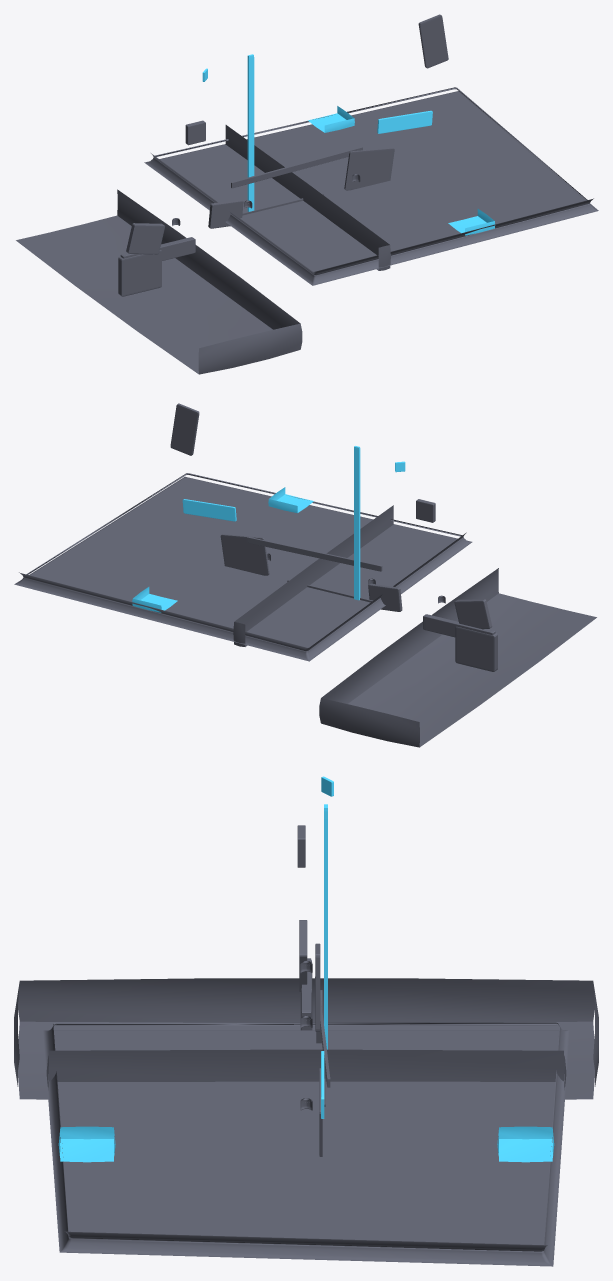
The model's file is fin_stabilator.glb.
The picture shows the model from 3 angles, top to bottom: view 1: azimuth 30°, elevation 25°; view 2: azimuth 150°, elevation 25°; view 3: azimuth 270°, elevation 25°; orthographic projection. The views are drawn at different scales.
Parts seen in each view (by area): view 1: fin_stabilator_Material_Hull_Merged, fin_stabilator_Material_Mechanical_Merged, DET_mount_flange, DET_micro_scratch_plate, fin_stabilator_Material_Accent_Merged, DET_control_tab, DET_faction_stripe_port, DET_dock_scuff, DET_panel_line_emphasis, DET_edge_chamfer_band, DET_actuator_slot, DET_hinge_bar; view 2: fin_stabilator_Material_Hull_Merged, fin_stabilator_Material_Mechanical_Merged, DET_mount_flange, DET_micro_scratch_plate, fin_stabilator_Material_Accent_Merged, DET_control_tab, DET_faction_stripe_port, DET_dock_scuff, DET_panel_line_emphasis, DET_edge_chamfer_band, DET_hinge_bar, DET_actuator_slot; view 3: fin_stabilator_Material_Hull_Merged, fin_stabilator_Material_Mechanical_Merged, fin_stabilator_Material_Accent_Merged, DET_faction_stripe_port.
Part boxes in pixels (x1,y1,x2,y2): fin_stabilator_Material_Hull_Merged: (16, 87, 598, 374); fin_stabilator_Material_Mechanical_Merged: (172, 125, 390, 270); DET_mount_flange: (118, 250, 161, 296); DET_micro_scratch_plate: (344, 148, 394, 190); fin_stabilator_Material_Accent_Merged: (308, 106, 495, 235); DET_control_tab: (418, 14, 448, 68); DET_faction_stripe_port: (247, 54, 254, 211); DET_dock_scuff: (126, 223, 164, 254); DET_panel_line_emphasis: (231, 146, 362, 188); DET_edge_chamfer_band: (377, 110, 432, 133); DET_actuator_slot: (208, 199, 243, 228); DET_hinge_bar: (120, 237, 195, 260); fin_stabilator_Material_Hull_Merged: (14, 473, 596, 747); fin_stabilator_Material_Mechanical_Merged: (233, 505, 445, 646); DET_mount_flange: (455, 626, 497, 671); DET_micro_scratch_plate: (220, 534, 269, 575); fin_stabilator_Material_Accent_Merged: (132, 487, 313, 612); DET_control_tab: (170, 403, 199, 455); DET_faction_stripe_port: (354, 446, 360, 600); DET_dock_scuff: (454, 599, 492, 629); DET_panel_line_emphasis: (246, 536, 382, 571); DET_edge_chamfer_band: (182, 499, 236, 521); DET_hinge_bar: (423, 614, 495, 637); DET_actuator_slot: (368, 583, 402, 611); fin_stabilator_Material_Hull_Merged: (14, 978, 598, 1266); fin_stabilator_Material_Mechanical_Merged: (46, 960, 566, 1110); fin_stabilator_Material_Accent_Merged: (58, 1126, 554, 1162); DET_faction_stripe_port: (324, 804, 327, 1049).
Bounding box in the file's own units: 4.82 × 2.28 × 3.6.
